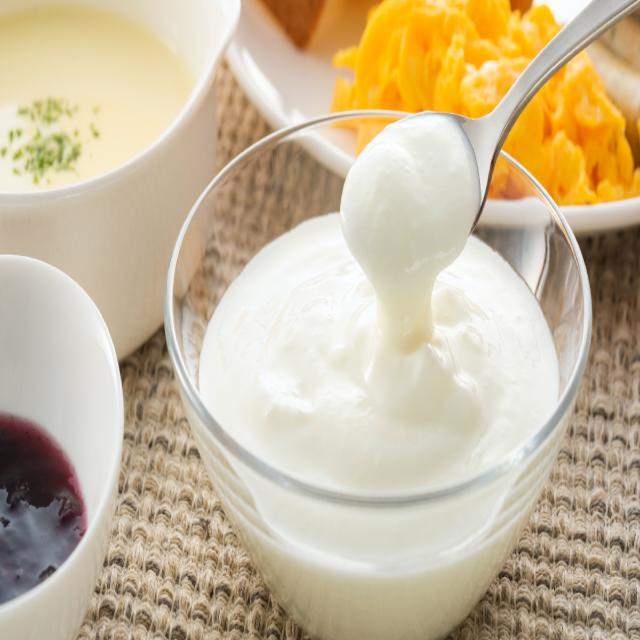Yogurt cup: (194, 121, 562, 640)
